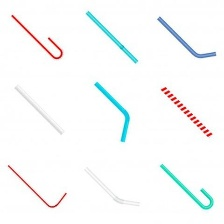drinking_straw: (80, 6, 141, 66), (155, 82, 216, 141), (9, 81, 69, 140), (154, 159, 218, 214), (2, 160, 71, 211), (152, 13, 220, 63), (88, 78, 134, 146), (7, 11, 67, 63), (81, 163, 145, 210)
